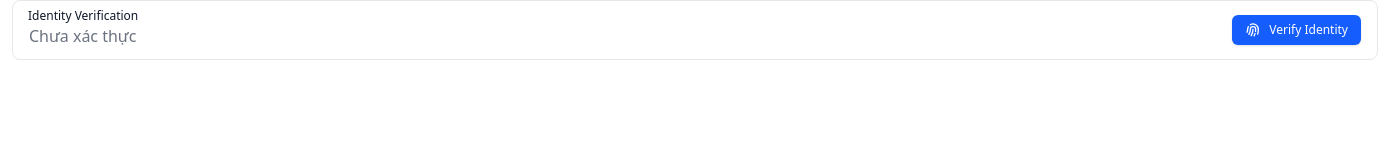
Test: EkycField › shows low confidence warning
The image size is (1378, 160).
Step 1. Click the button "Verify Identity" → click(1297, 30), box top-left (1232, 15), bottom-right (1361, 45)
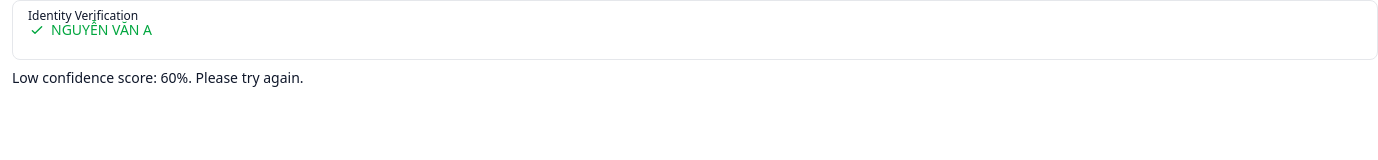
Check: the text "Low confidence score: 60%. Please try again." is shown, box top-left (12, 68), bottom-right (304, 87)
